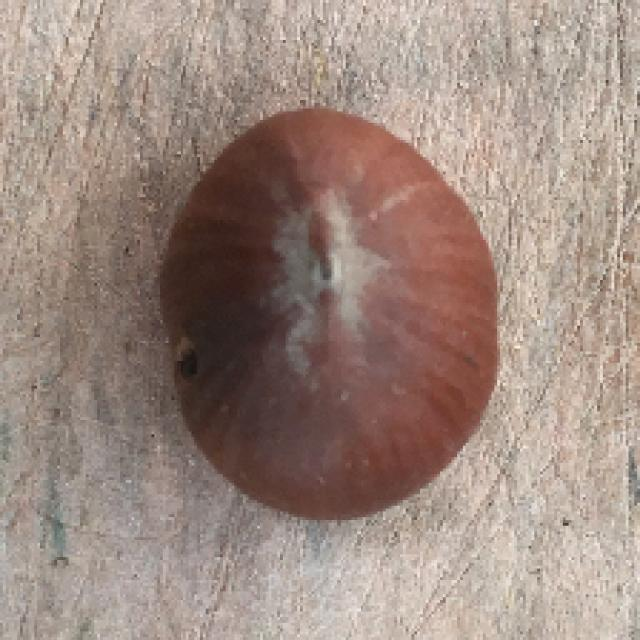damagedHazelnut: (156, 100, 500, 528)
